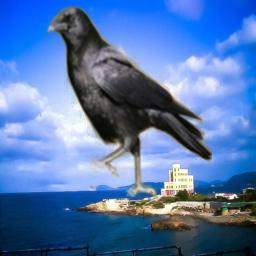Crow: (43, 4, 212, 199)
